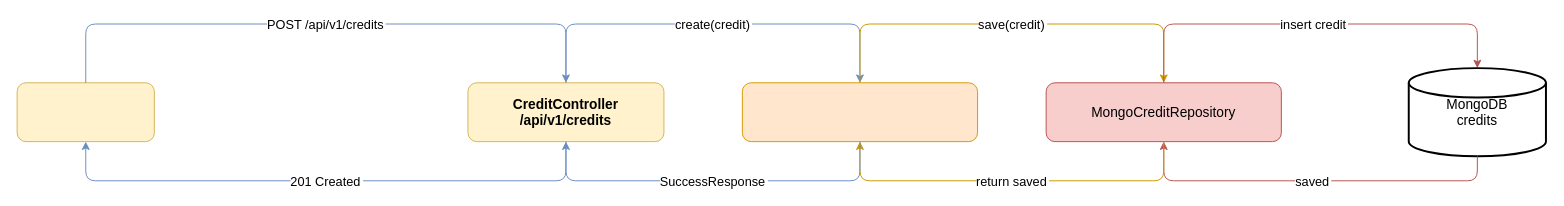
Image size: 1564x206. Some labels were removed from this diagram. The box of each missing label's shape, as (x1, y1, x2, y2) in pixels:
Client: (16, 82, 154, 142)
CreditApplicationService: (741, 82, 978, 142)
